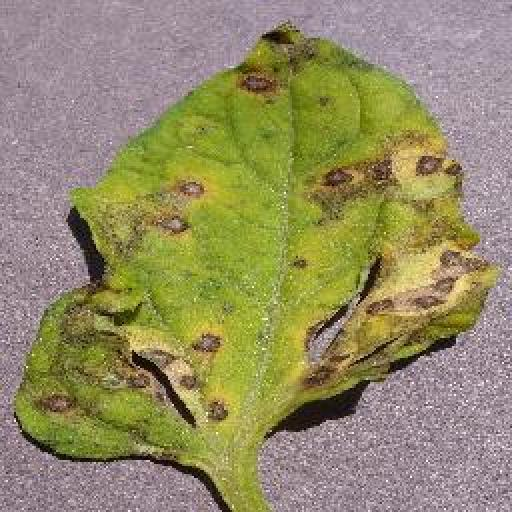disease_tomato: (12, 20, 491, 460)
